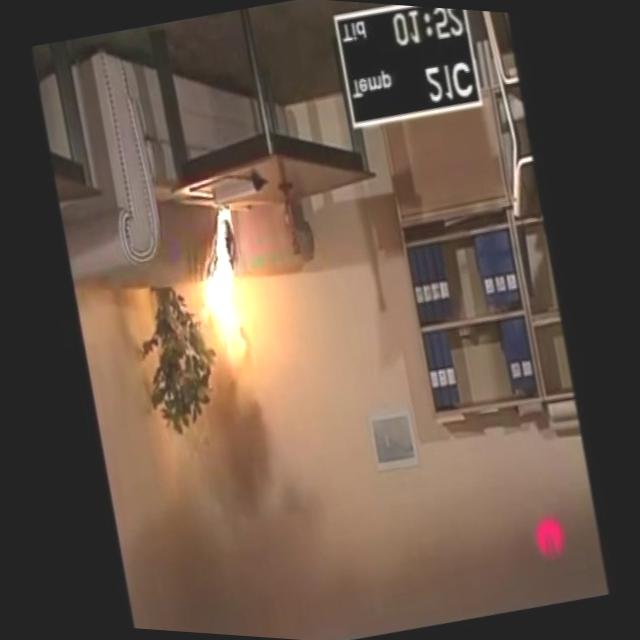fire: (173, 198, 284, 368)
